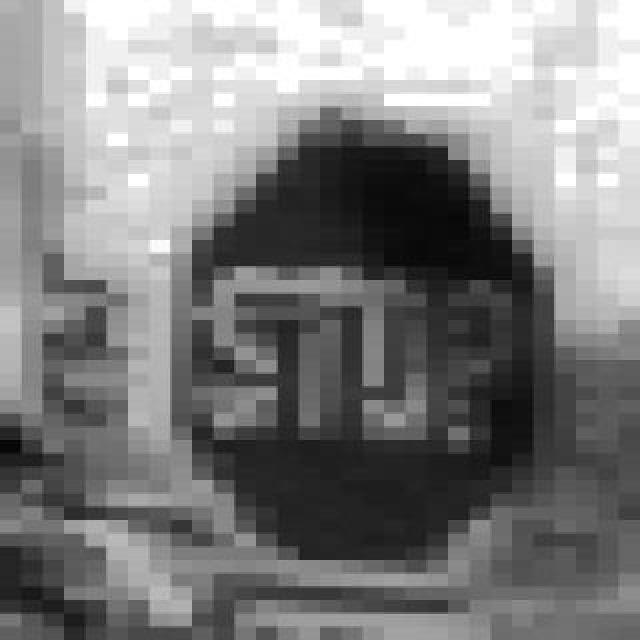stop: (152, 102, 568, 582)
